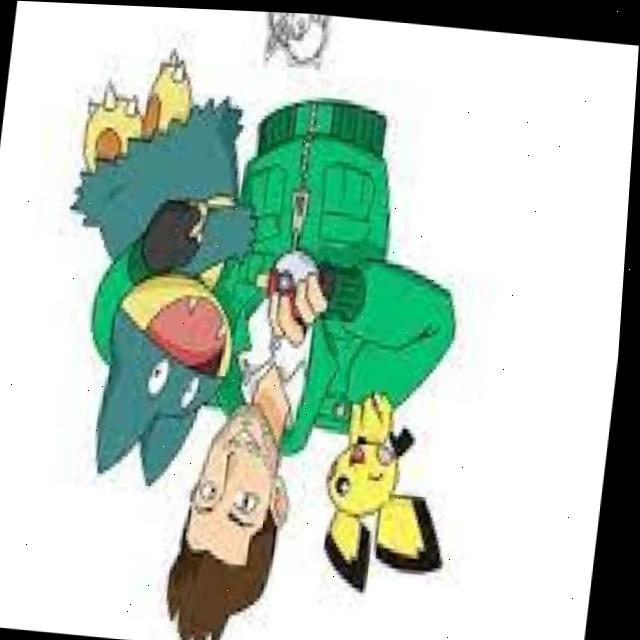pichu: (317, 381, 467, 601)
